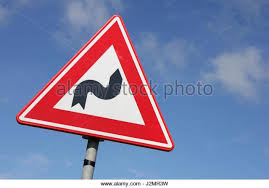Double_bend_right: (14, 13, 175, 152)
